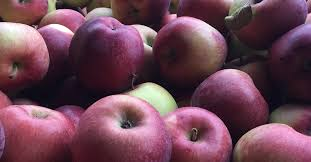apple: (85, 98, 171, 162), (73, 19, 143, 85), (192, 70, 270, 127), (155, 15, 229, 73), (2, 105, 77, 159), (230, 2, 310, 50), (168, 107, 237, 161), (2, 22, 49, 92), (238, 117, 309, 162), (267, 25, 311, 80), (36, 22, 82, 68)
